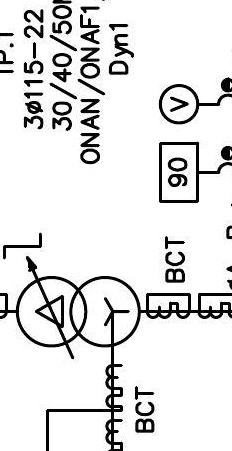11522_tx_dyn1: (15, 275, 142, 348)
v_m: (158, 83, 200, 126)
